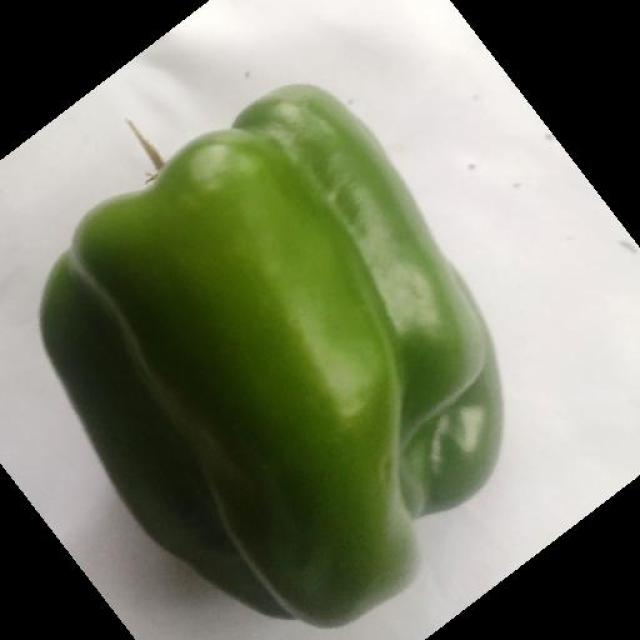Fresh_Capsicum: (41, 120, 510, 592)
